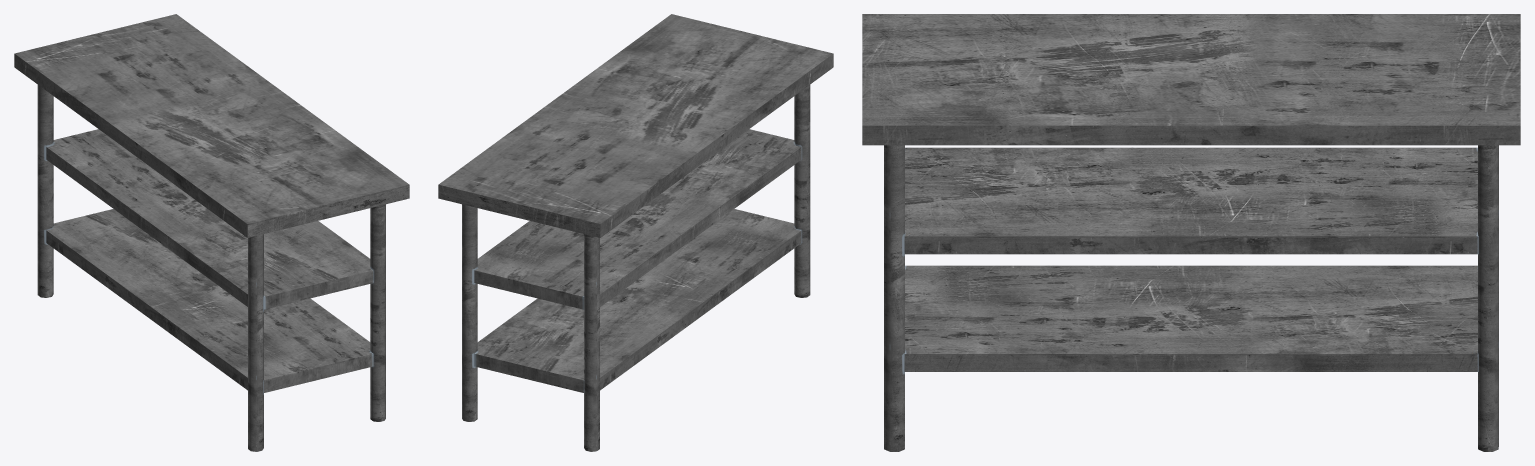
File: kt_steel_table.fbx
3 renders of one model, left to right at view 1: azimuth 30°, elevation 25°; view 2: azimuth 150°, elevation 25°; view 3: azimuth 270°, elevation 25°, orthographic. The views are drawn at different scales.
Visible parts, largest first — view 1: kt_steel_table_LOD0; view 2: kt_steel_table_LOD0; view 3: kt_steel_table_LOD0.
Boxes of the visible parts, left/top/right/bottom form: kt_steel_table_LOD0: left=14, top=14, right=409, bottom=451; kt_steel_table_LOD0: left=438, top=14, right=833, bottom=451; kt_steel_table_LOD0: left=862, top=14, right=1520, bottom=451.
Size of what is drawn, in the model's own units: 0.6406 by 0.9 by 1.6.
1 material, 1 textured.
